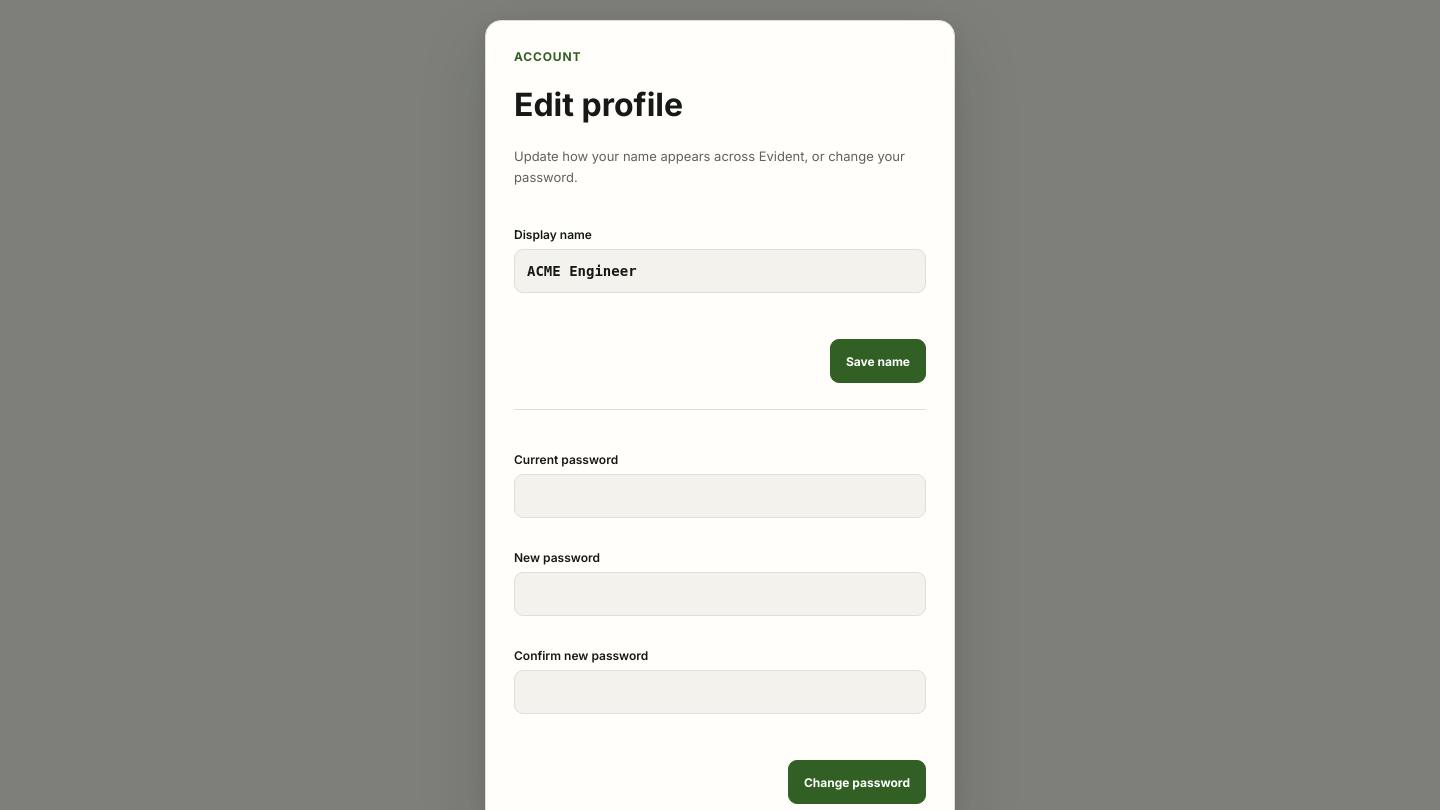
Test: ProfileDialog › changes the password and clears the fields on success
In the password field labelled "Current password": {"x": 720, "y": 496} top-left (514, 474), bottom-right (926, 518), type "correct-horse-battery"
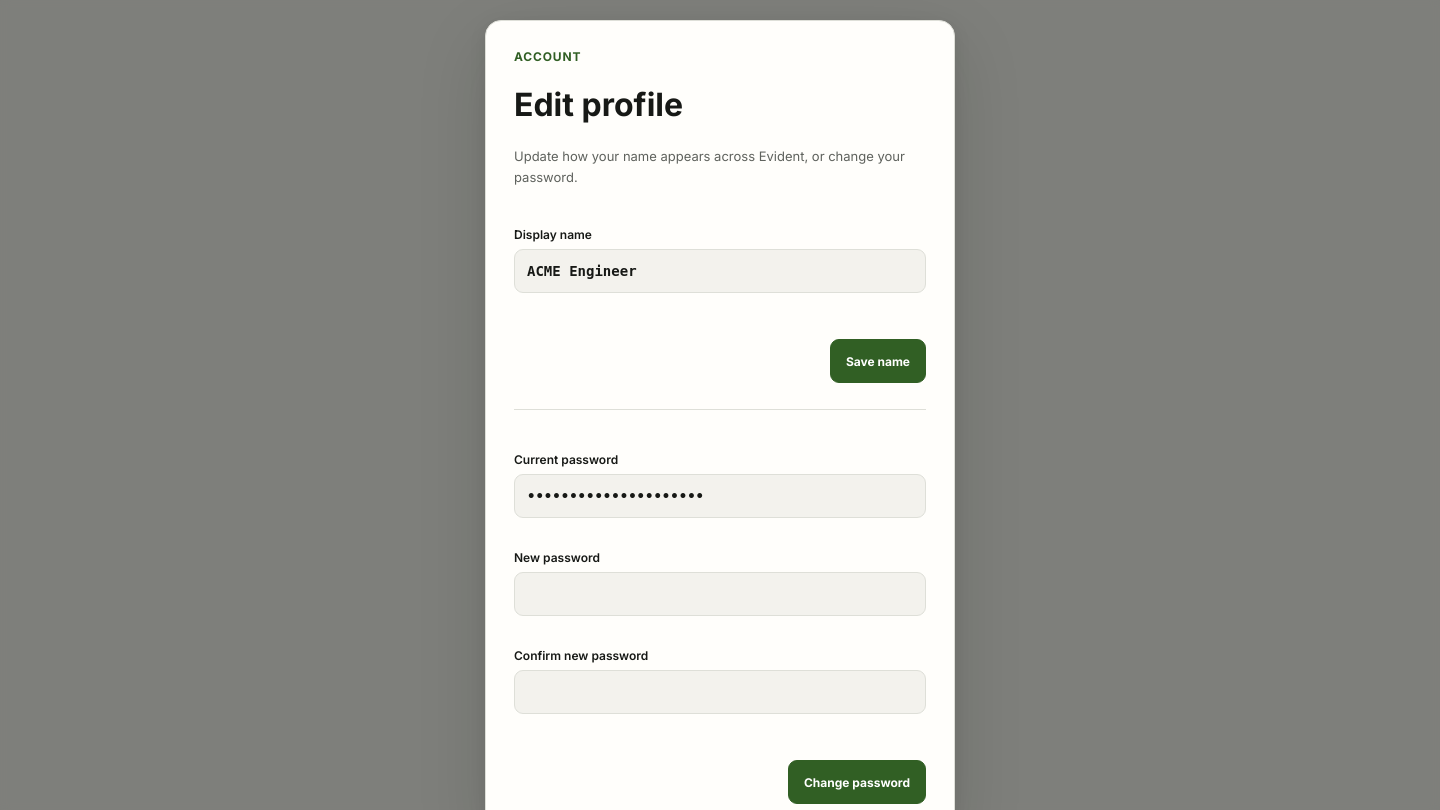
In the password field labelled "New password": {"x": 720, "y": 594} top-left (514, 572), bottom-right (926, 616), type "new-correct-horse-battery"
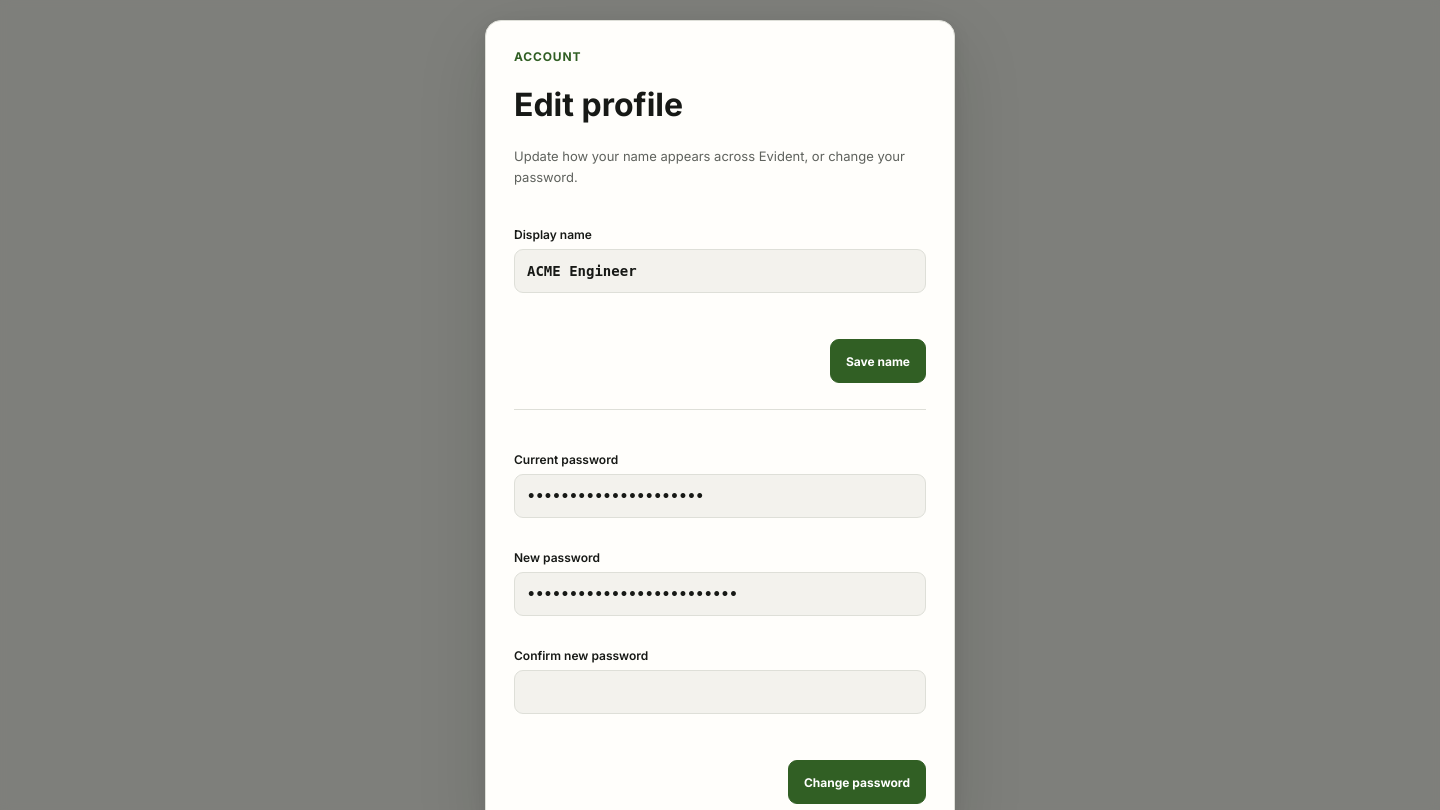
In the password field labelled "Confirm new password": {"x": 720, "y": 692} top-left (514, 670), bottom-right (926, 714), type "new-correct-horse-battery"
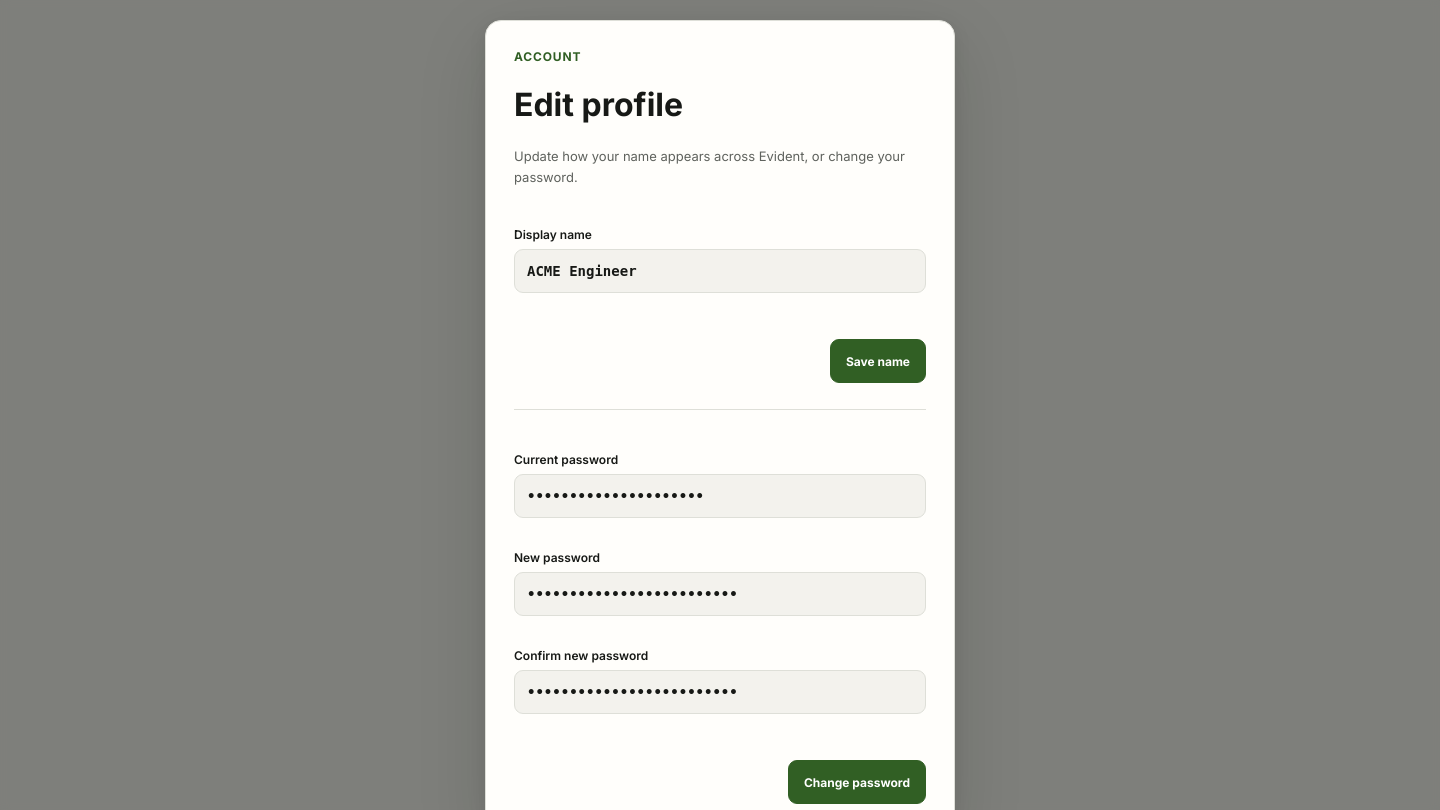
Submit the form that starts with "Current password", box top-left (514, 436), bottom-right (926, 804)
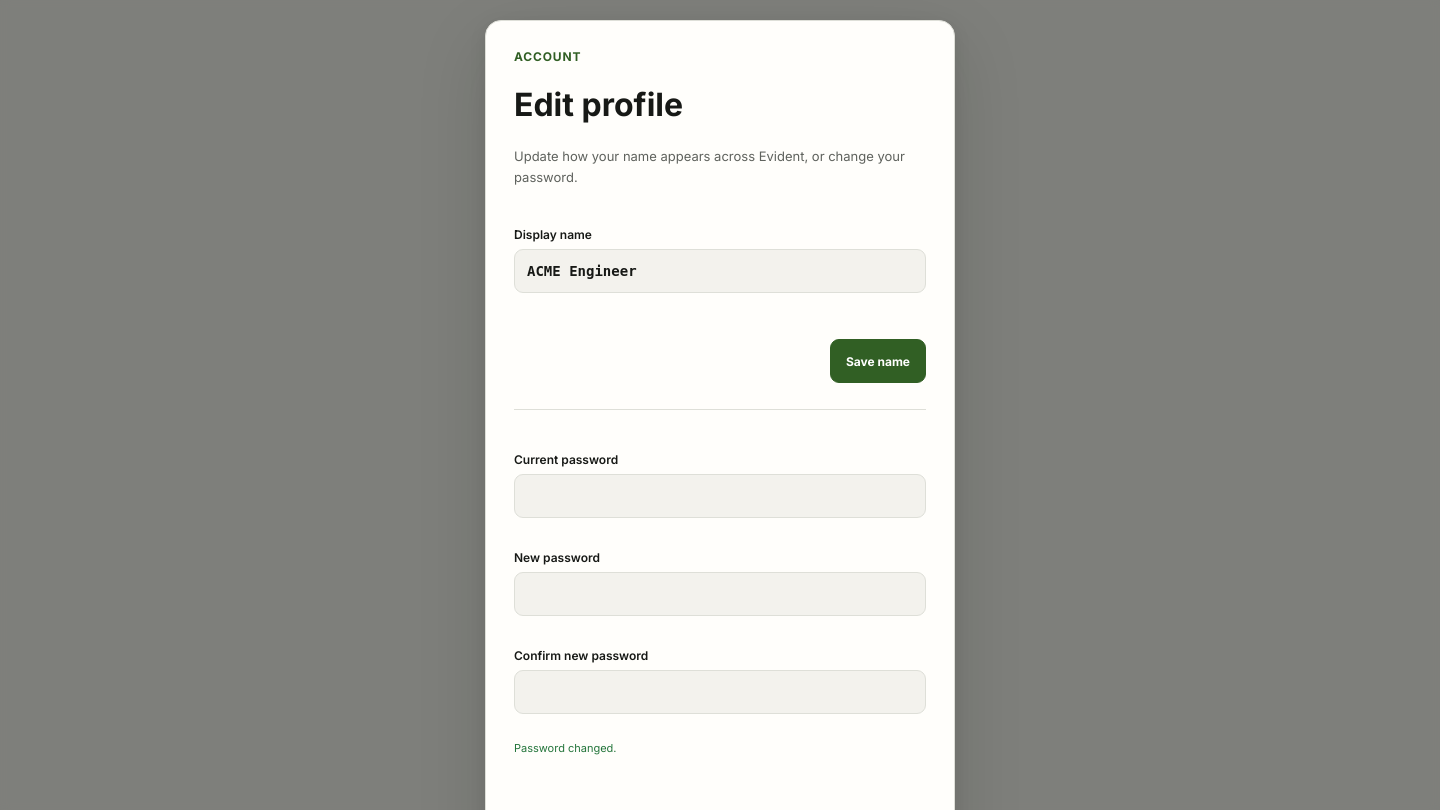
Check: the text "Password changed." is shown, box top-left (514, 742), bottom-right (616, 756)
Check: the password field labelled "Current password" is empty, box top-left (514, 474), bottom-right (926, 518)
